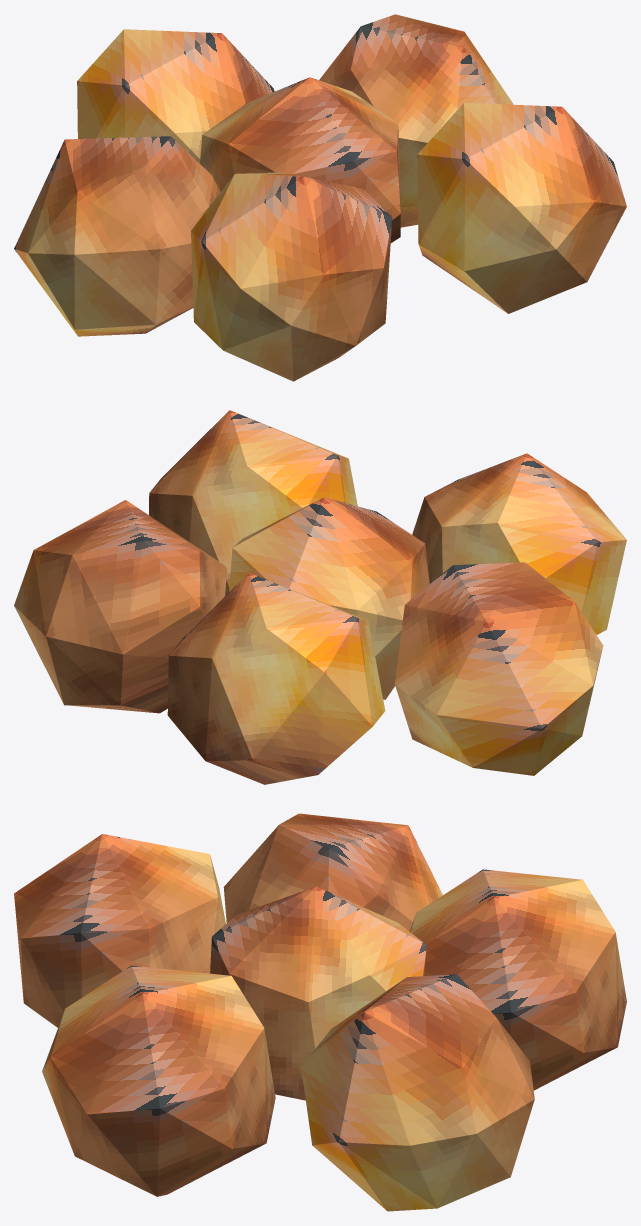
Rendered from pile-onion.glb.
3 renders of one model, top to bottom at view 1: azimuth 30°, elevation 25°; view 2: azimuth 150°, elevation 25°; view 3: azimuth 270°, elevation 25°, orthographic. The views are drawn at different scales.
Visible parts, largest first — view 1: pile-onion; view 2: pile-onion; view 3: pile-onion.
Boxes of the visible parts, x1=… form: pile-onion: x1=14, y1=14, x2=626, y2=381; pile-onion: x1=14, y1=410, x2=626, y2=784; pile-onion: x1=14, y1=813, x2=626, y2=1211.
Bounding box in the file's own units: 0.5759 × 0.235 × 0.5368.
1 material, 1 textured.
